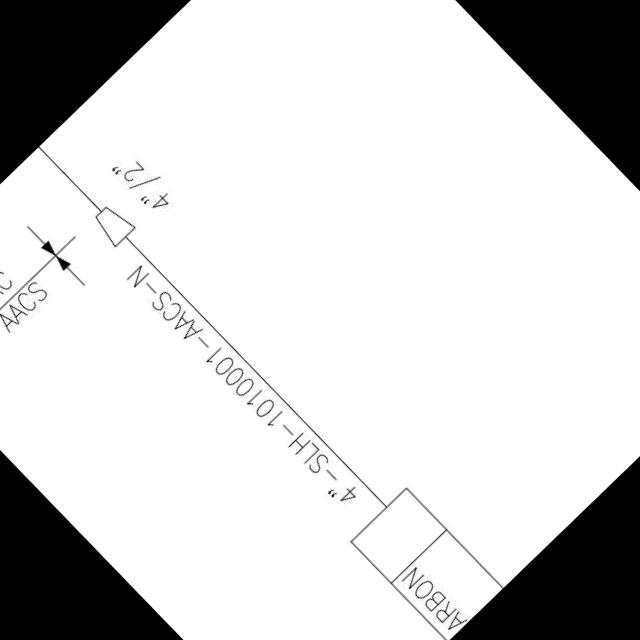SP: (82, 193, 144, 256)
